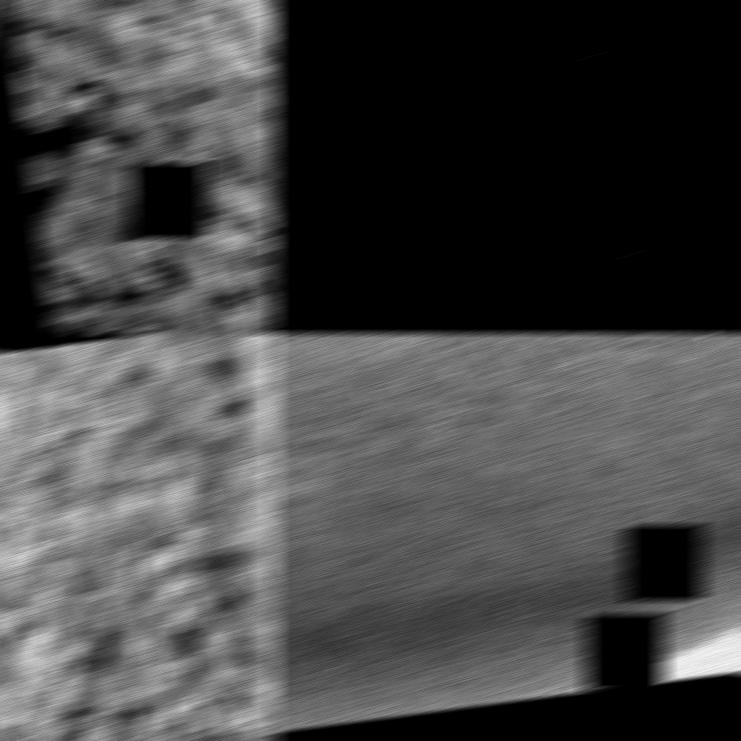Airbag: (270, 334, 741, 740), (0, 334, 278, 740), (0, 1, 278, 332)
